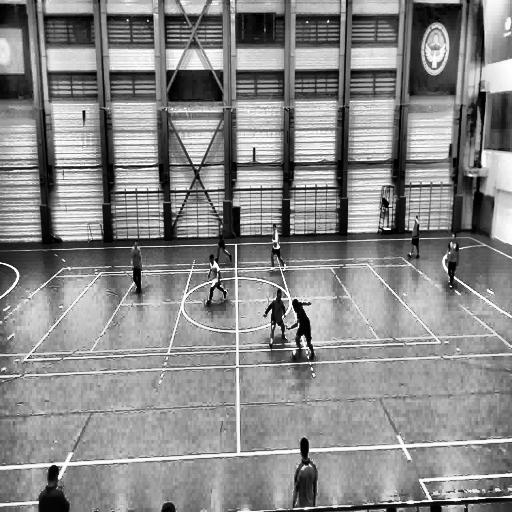ball: (292, 350, 298, 360)
player: (291, 436, 317, 506), (286, 298, 314, 360), (264, 290, 288, 350), (207, 254, 227, 305), (445, 231, 460, 287), (270, 225, 285, 273), (406, 214, 420, 260), (131, 240, 142, 294), (216, 232, 232, 265)
